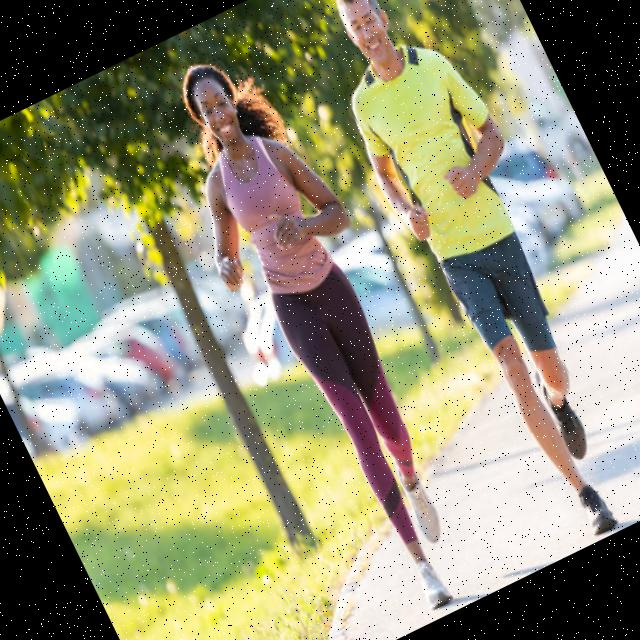Person: (132, 33, 520, 631), (290, 0, 640, 554)
